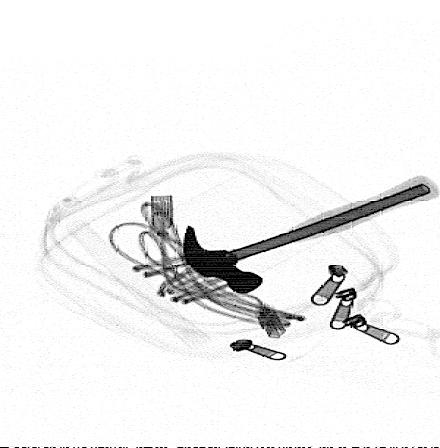Hammer: (182, 175, 439, 294)
